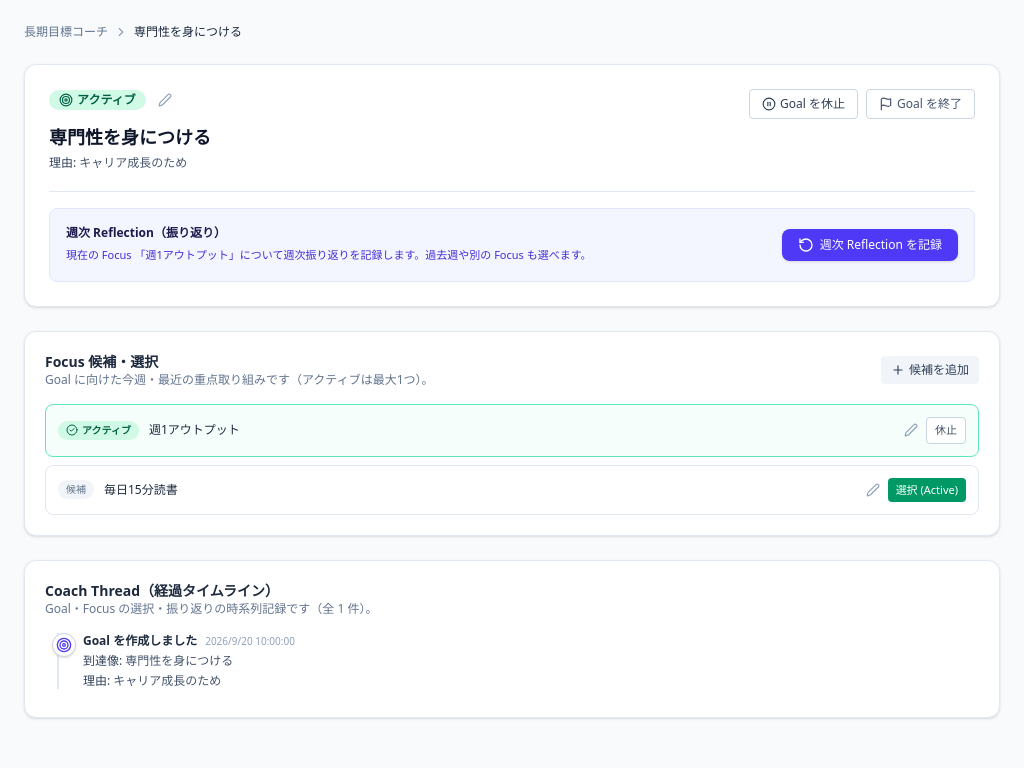
it: GoalDetailPage › opens the reflection modal with a subject focus selector
Expected: the heading "Focus 候補・選択" is shown, [45,352,158,371]
Click the button "週次 Reflection を記録" at {"x": 870, "y": 245}, box [782,229,958,261]
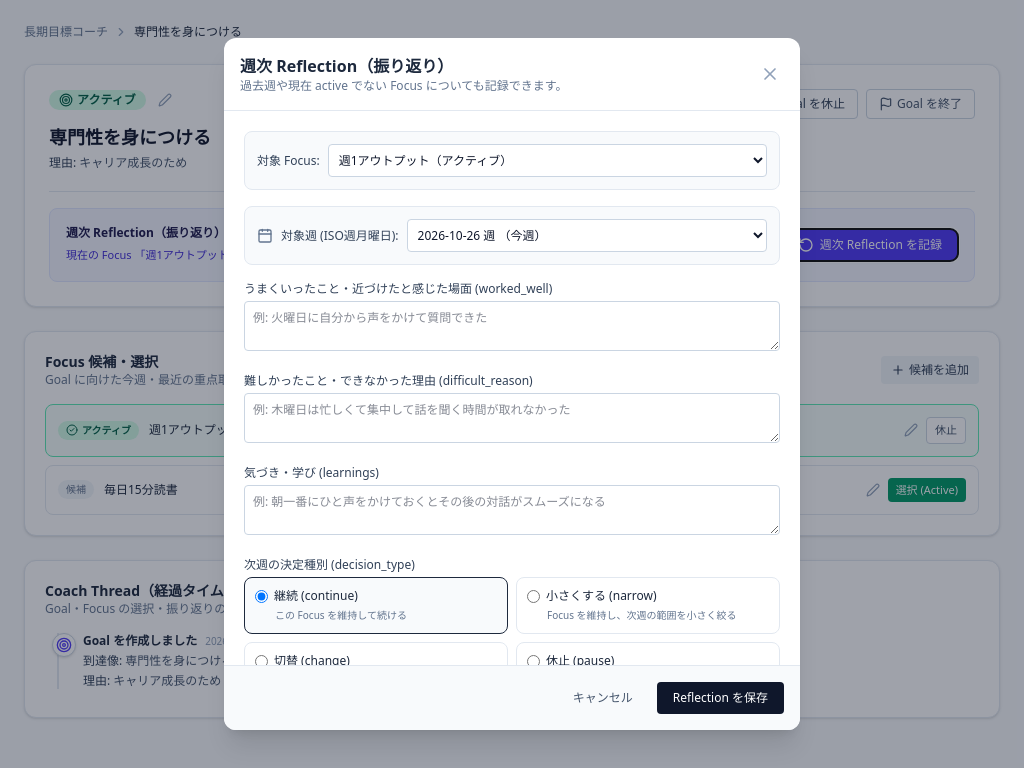
Now the dropdown labelled "対象 Focus:" is shown, box [328,144,767,177]
